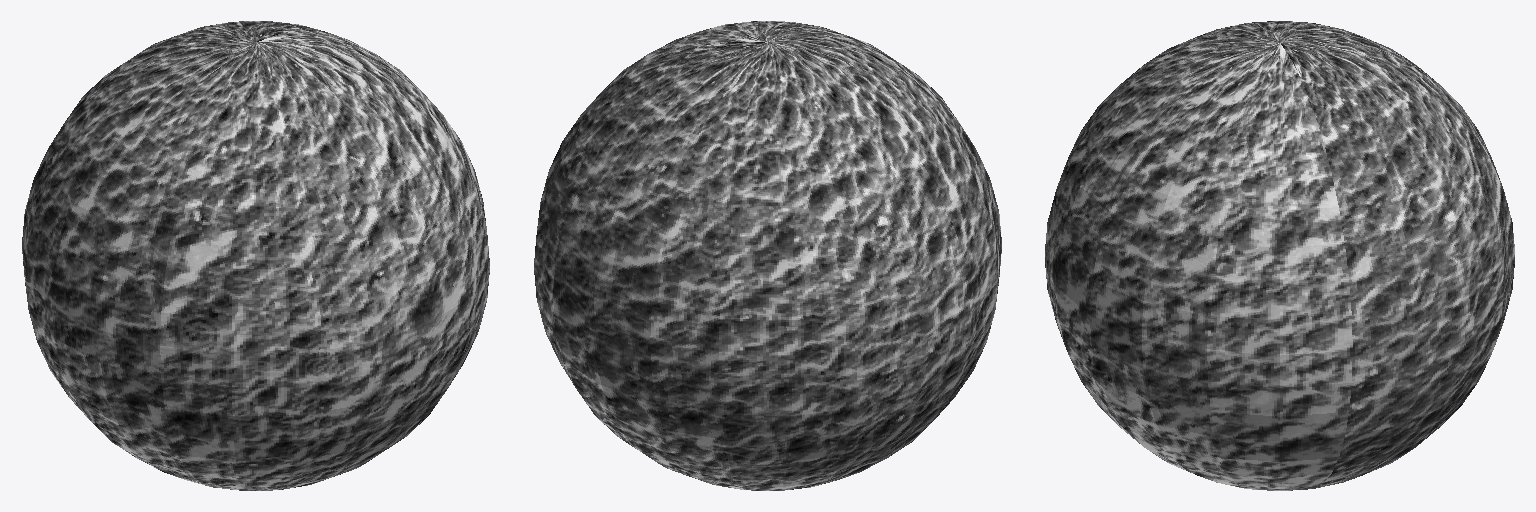
The picture shows the model from 3 angles: view 1: azimuth 30°, elevation 25°; view 2: azimuth 150°, elevation 25°; view 3: azimuth 270°, elevation 25°; orthographic projection.
Bounding box in the file's own units: 25.14 × 25.14 × 25.14.
Materials: 1 (1 with a texture image).